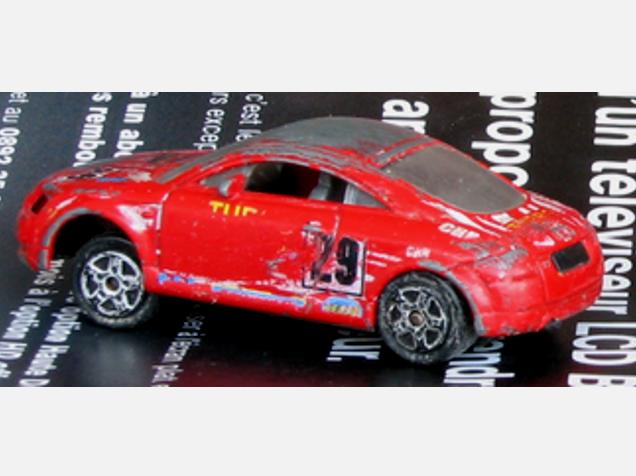toy-car: (15, 115, 604, 367)
